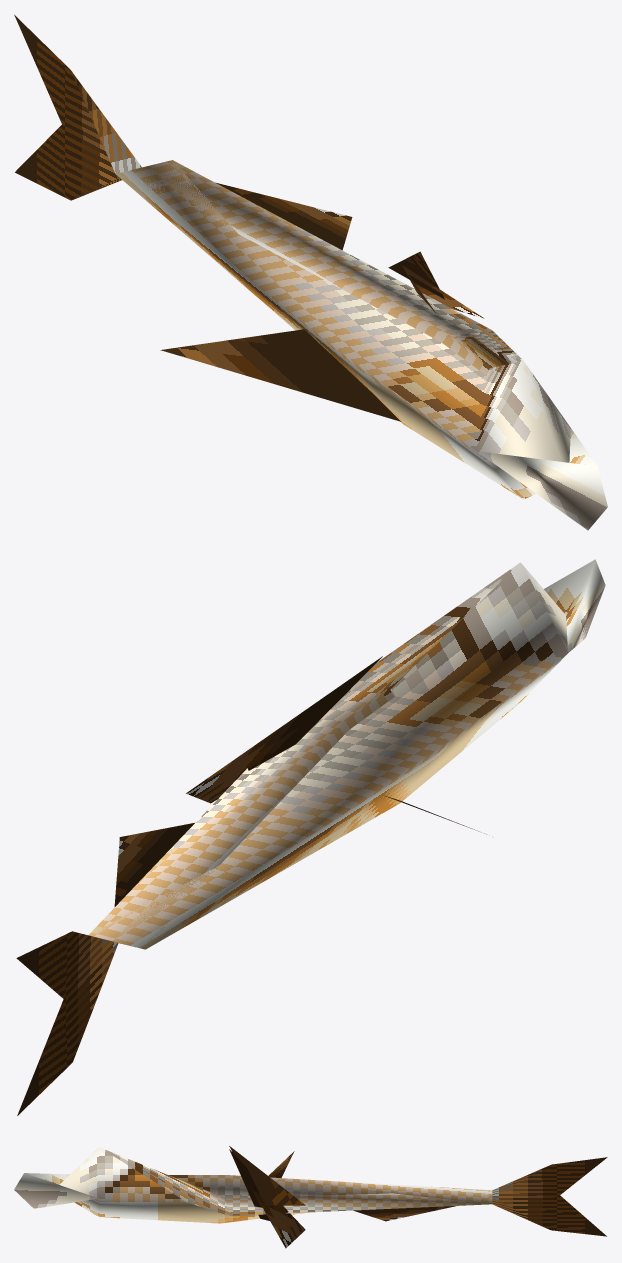
3 renders of one model, top to bottom at view 1: azimuth 30°, elevation 25°; view 2: azimuth 150°, elevation 25°; view 3: azimuth 270°, elevation 25°, orthographic. The views are drawn at different scales.
Visible parts, largest first — view 1: 4795fish05_r; view 2: 4795fish05_r; view 3: 4795fish05_r.
Boxes of the visible parts, <box> form: 4795fish05_r: <box>14,14,607,530</box>; 4795fish05_r: <box>16,559,605,1115</box>; 4795fish05_r: <box>14,1146,607,1248</box>.
Bounding box in the file's own units: 0.3096 × 0.1684 × 0.9987.
1 material, 1 textured.
